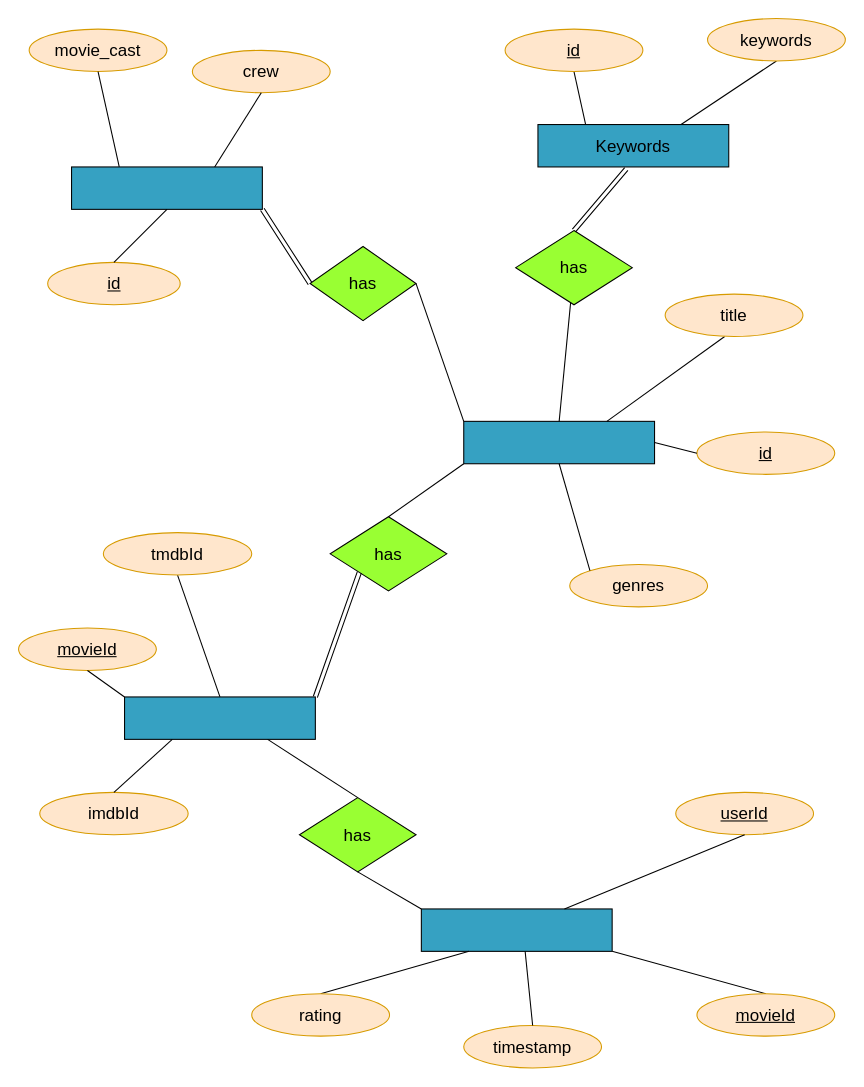
Some shapes in this 864 by 1087 pixel diagram are drawn without their labels. Here are the shapes that lost their labels. From the top down, the centre of each, then its label:
At (166,187): "Credits".
At (559,442): "Movies_Metadata".
At (219,717): "Links".
At (516,929): "Ratings_Small".
